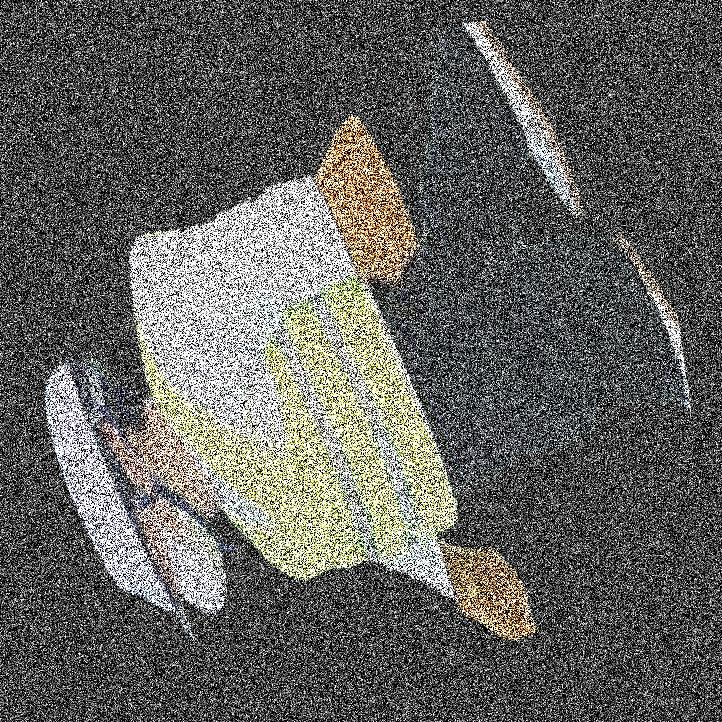Pessoa: (250, 0, 505, 721)
